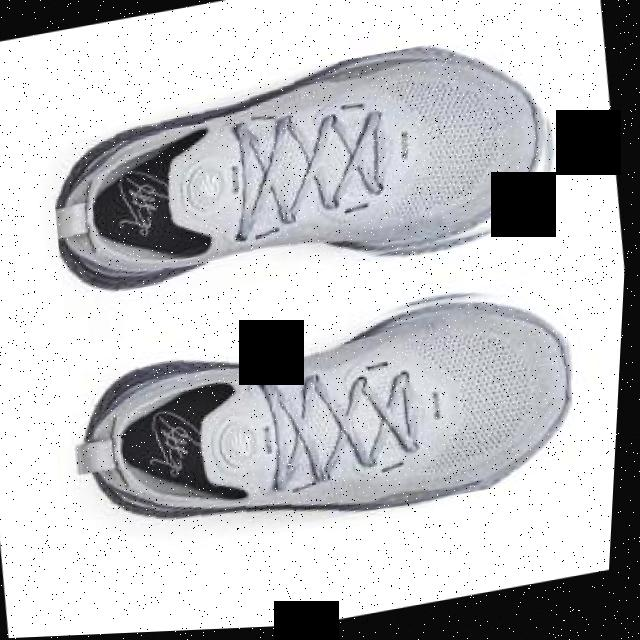shoe: (40, 27, 575, 322), (64, 274, 593, 565)
